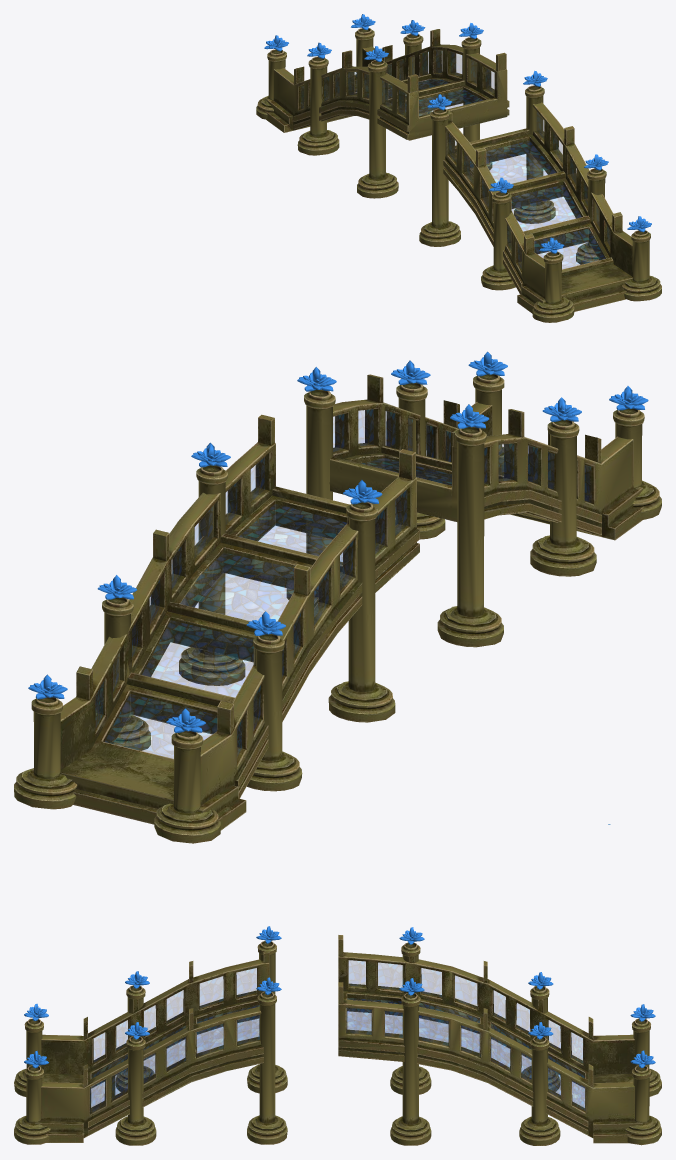
File: bridgeBroken_lowPolyCompressed.glb
3 views of the same model, one above another, from view 1: azimuth 30°, elevation 25°; view 2: azimuth 150°, elevation 25°; view 3: azimuth 270°, elevation 25° (orthographic). The views are drawn at different scales.
Visible parts, largest first — view 1: Mesh_168.001; view 2: Mesh_168.001; view 3: Mesh_168.001.
Boxes of the visible parts, <box> form: Mesh_168.001: <box>256,14,661,322</box>; Mesh_168.001: <box>14,351,661,843</box>; Mesh_168.001: <box>14,926,661,1145</box>.
Bounding box in the file's own units: 3.75 × 1.39 × 5.14.
6 materials, 4 textured.
